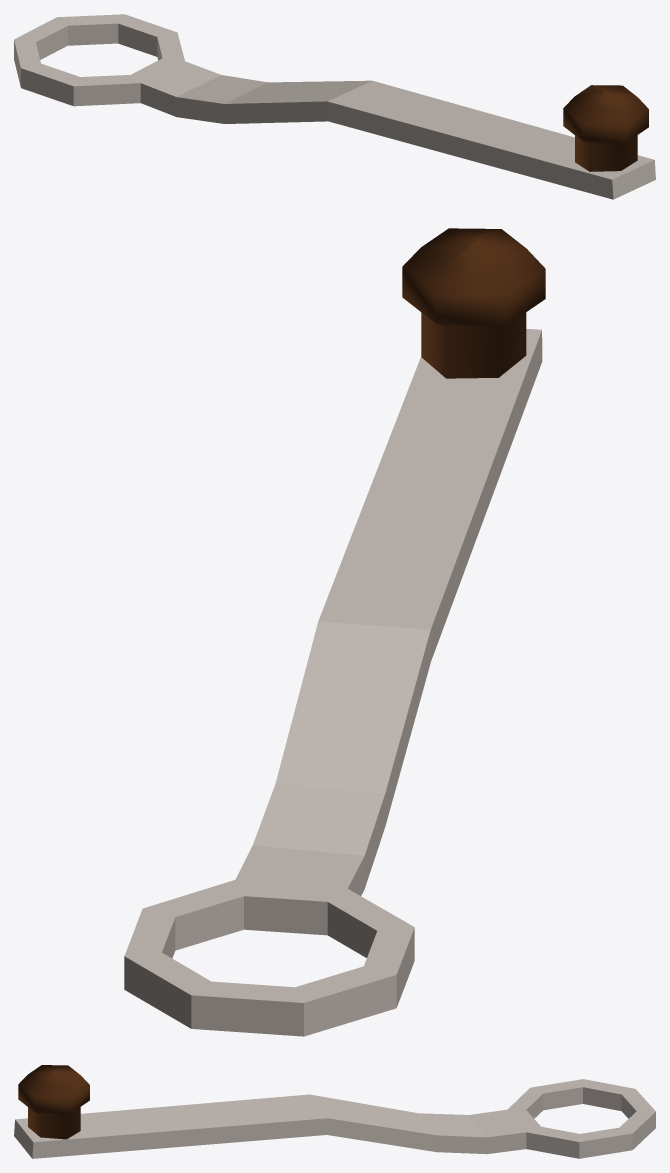
Rendered from GrinderArm.fbx.
3 renders of one model, top to bottom at view 1: azimuth 30°, elevation 25°; view 2: azimuth 150°, elevation 25°; view 3: azimuth 270°, elevation 25°, orthographic. The views are drawn at different scales.
Parts seen in each view (by area): view 1: coffee grinder.001; view 2: coffee grinder.001; view 3: coffee grinder.001.
Boxes of the visible parts, x1,y1,x2,y2 form: coffee grinder.001: (14, 14, 655, 199); coffee grinder.001: (124, 228, 545, 1036); coffee grinder.001: (14, 1065, 655, 1158).
Size of the model in its own units: 14.3 by 7.21 by 30.96.
